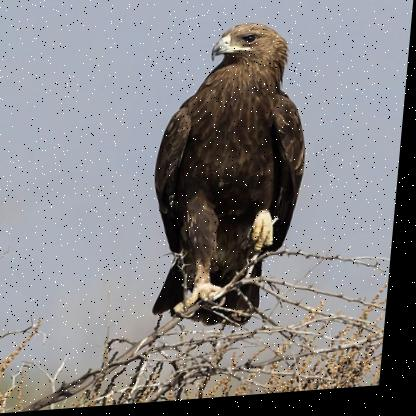Burung: (148, 23, 315, 336)
